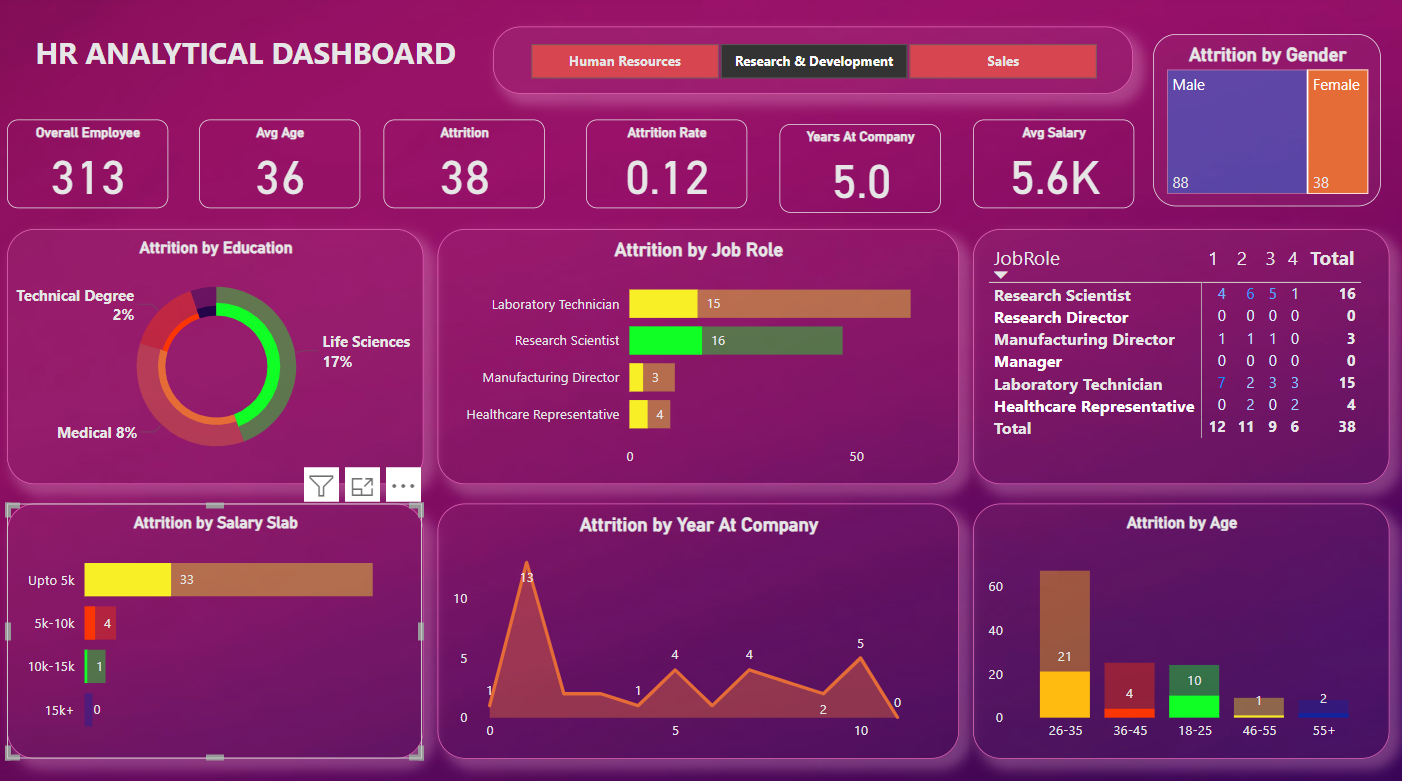

The page's visual inventory and layout, read from the dashboard file:
{"tool":"powerbi","page":{"name":"HR Dashboard","canvas":[1280,720],"ordinal":0},"visuals":[{"type":"card","title":"Overall Employee","fields":{"Values":["CountNonNull(HR_Analytics.EmpID)"]},"box":[13.5,112.1,145,80],"z":0},{"type":"card","title":"Attrition","fields":{"Values":["Sum(HR_Analytics.AttritionCount)"]},"box":[352.6,112.1,145,80],"z":1000},{"type":"card","title":"Avg Age","fields":{"Values":["Avg(HR_Analytics.Age)"]},"box":[186.4,112.1,145,80],"z":2000},{"type":"card","title":"Years At Company","fields":{"Values":["Avg(HR_Analytics.YearsAtCompany)"]},"box":[709.2,116.2,145,80],"z":3000},{"type":"card","title":"Attrition Rate","fields":{"Values":["HR_Analytics.AttritionRate"]},"box":[534.9,112.1,145,80],"z":4000},{"type":"card","title":"Avg Salary","fields":{"Values":["Avg(HR_Analytics.MonthlyIncome)"]},"box":[883.5,112.1,145,80],"z":5000},{"type":"donutChart","title":"Attrition by Education","fields":{"Category":["HR_Analytics.EducationField"],"Y":["Sum(HR_Analytics.AttritionCount)"]},"box":[13.5,210.7,375.5,230],"z":6000},{"type":"clusteredColumnChart","title":"Attrition by Age","fields":{"Category":["HR_Analytics.AgeGroup"],"Y":["Sum(HR_Analytics.AttritionCount)"]},"box":[883.5,457.9,375.5,230],"z":7000},{"type":"pivotTable","fields":{"Values":["Sum(HR_Analytics.AttritionCount)"],"Rows":["HR_Analytics.JobRole"],"Columns":["HR_Analytics.JobSatisfaction"]},"box":[883.5,210.7,375.5,230],"z":8000},{"type":"clusteredBarChart","title":"Attrition by Salary Slab","fields":{"Category":["HR_Analytics.SalarySlab"],"Y":["Sum(HR_Analytics.AttritionCount)"]},"box":[13.5,457.9,375,230],"z":9000},{"type":"clusteredBarChart","title":"Attrition by Job Role","fields":{"Category":["HR_Analytics.JobRole"],"Y":["Sum(HR_Analytics.AttritionCount)"]},"box":[401.2,210.7,470,230],"z":10000},{"type":"areaChart","title":"Attrition by Year At Company","fields":{"Category":["HR_Analytics.YearsAtCompany"],"Y":["Sum(HR_Analytics.AttritionCount)"]},"box":[401.2,457.9,470.1,230],"z":11000},{"type":"treemap","title":"Attrition by Gender","fields":{"Group":["HR_Analytics.Gender"],"Values":["Sum(HR_Analytics.AttritionCount)"]},"box":[1045.6,35.1,205.3,155.3],"z":12000},{"type":"slicer","fields":{"Values":["HR_Analytics.Department"]},"box":[451.2,28.4,576.8,60.8],"z":13000},{"type":"textbox","box":[13.5,28.4,429.6,60.8],"z":14000}]}

Visuals, with their boxes in screenshot pixels (x1, y1, x2, y2), scaled from the page's 1280x720 canvas onto the 1402x781 screenshot:
"Overall Employee" card: {"x1": 15, "y1": 122, "x2": 174, "y2": 208}
"Attrition" card: {"x1": 386, "y1": 122, "x2": 545, "y2": 208}
"Avg Age" card: {"x1": 204, "y1": 122, "x2": 363, "y2": 208}
"Years At Company" card: {"x1": 777, "y1": 126, "x2": 936, "y2": 213}
"Attrition Rate" card: {"x1": 586, "y1": 122, "x2": 745, "y2": 208}
"Avg Salary" card: {"x1": 968, "y1": 122, "x2": 1127, "y2": 208}
"Attrition by Education" donutChart: {"x1": 15, "y1": 229, "x2": 426, "y2": 478}
"Attrition by Age" clusteredColumnChart: {"x1": 968, "y1": 497, "x2": 1379, "y2": 746}
pivotTable - Sum(HR_Analytics.AttritionCount) x HR_Analytics.JobRole: {"x1": 968, "y1": 229, "x2": 1379, "y2": 478}
"Attrition by Salary Slab" clusteredBarChart: {"x1": 15, "y1": 497, "x2": 426, "y2": 746}
"Attrition by Job Role" clusteredBarChart: {"x1": 439, "y1": 229, "x2": 954, "y2": 478}
"Attrition by Year At Company" areaChart: {"x1": 439, "y1": 497, "x2": 954, "y2": 746}
"Attrition by Gender" treemap: {"x1": 1145, "y1": 38, "x2": 1370, "y2": 207}
slicer - HR_Analytics.Department: {"x1": 494, "y1": 31, "x2": 1126, "y2": 97}
textbox: {"x1": 15, "y1": 31, "x2": 485, "y2": 97}
